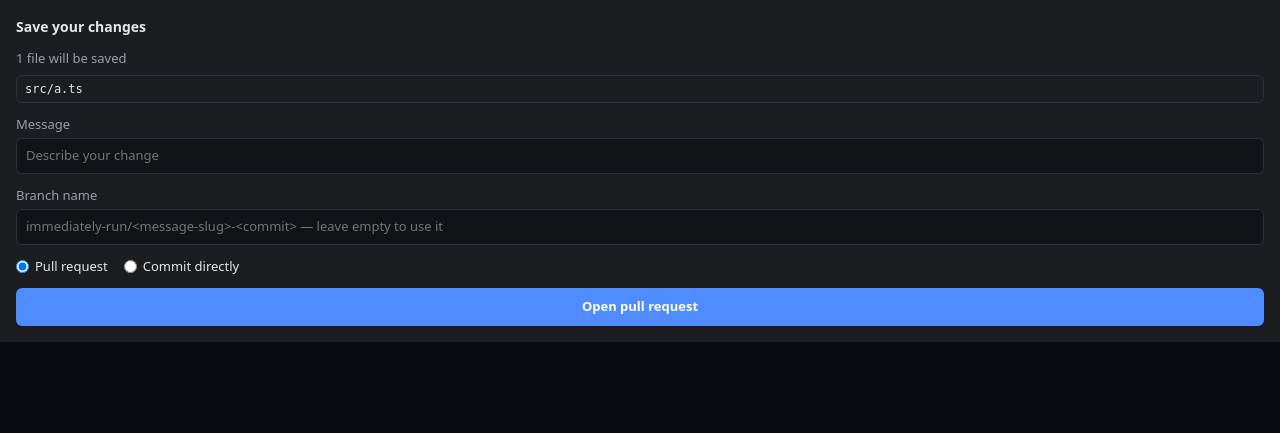
Test: Contribute — the recovery actions (R3-994, CONTRIBUTE_SPEC §12) › a use-different-name error with a generated name (empty field) shows the hint but no force checkbox
The width and height of the screenshot is (1280, 433).
Click the button "Open pull request". click: coordinates (640, 307)
box: [16,288,1264,326]
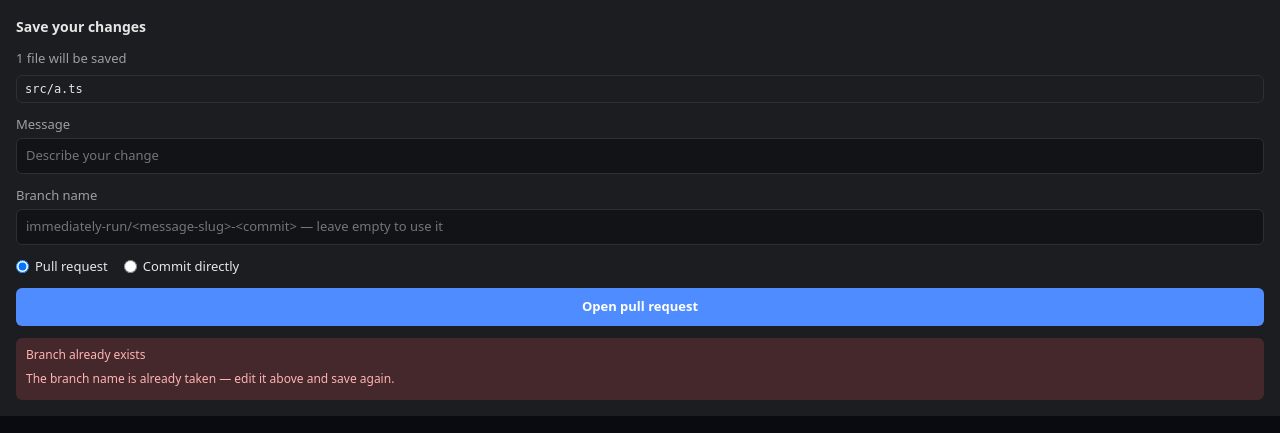
Check: the text "branch name is already taken" is shown, box [26,370,394,386]
